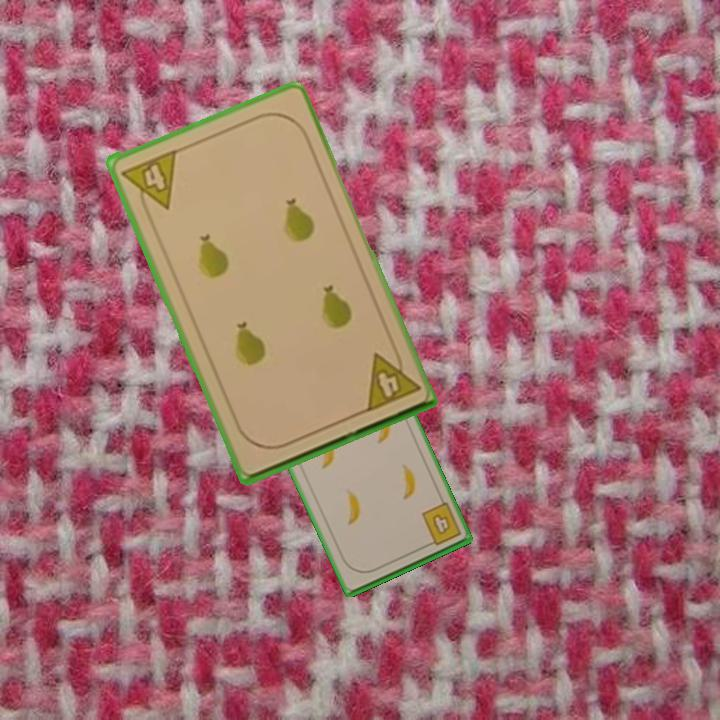4b: (418, 499, 464, 550)
4p: (118, 146, 180, 219), (361, 343, 423, 415)
